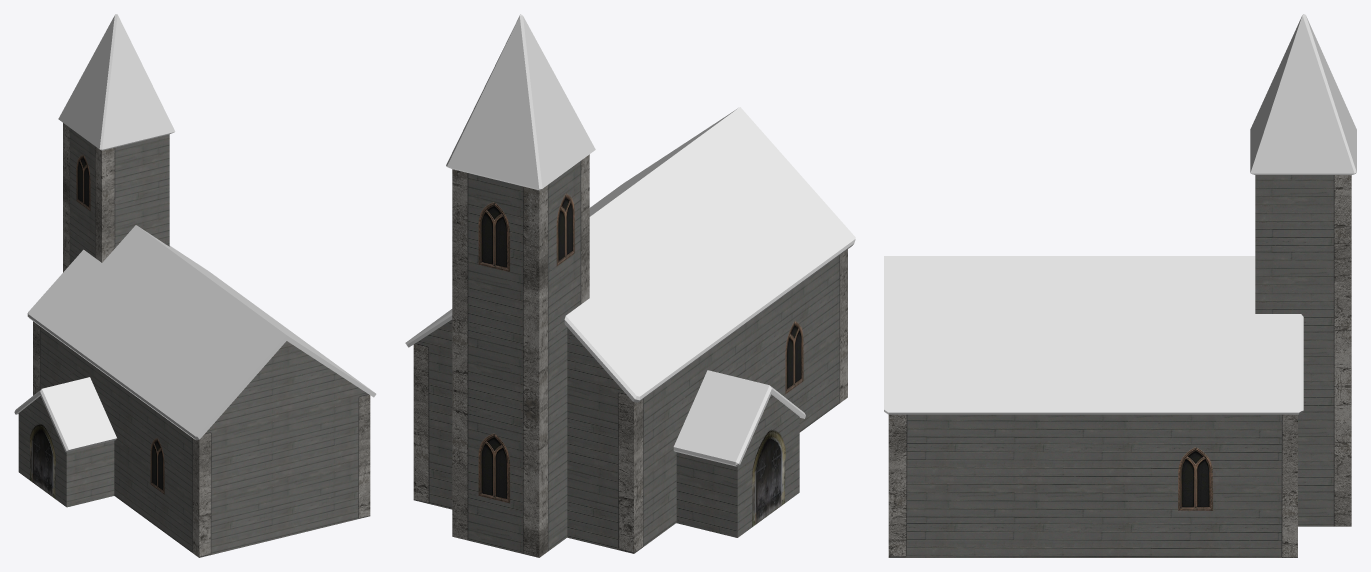
File: Church.fbx
3 renders of one model, left to right at view 1: azimuth 30°, elevation 25°; view 2: azimuth 150°, elevation 25°; view 3: azimuth 270°, elevation 25°, orthographic. The views are drawn at different scales.
Parts seen in each view (by area): view 1: Church, Snow, Snow2, Snow3; view 2: Church, Snow, Snow2, Snow3; view 3: Church, Snow, Snow2.
Part boxes in pixels (x1=…): Church: x1=18, y1=123, x2=370, y2=557; Snow: x1=27, y1=225, x2=376, y2=440; Snow2: x1=58, y1=14, x2=175, y2=150; Snow3: x1=14, y1=377, x2=116, y2=452; Church: x1=413, y1=154, x2=847, y2=557; Snow: x1=405, y1=107, x2=855, y2=402; Snow2: x1=446, y1=14, x2=595, y2=190; Snow3: x1=673, y1=370, x2=805, y2=466; Church: x1=888, y1=175, x2=1351, y2=557; Snow: x1=884, y1=256, x2=1303, y2=414; Snow2: x1=1250, y1=14, x2=1356, y2=174.
Bounding box in the file's own units: 794 × 1334 × 1161.
